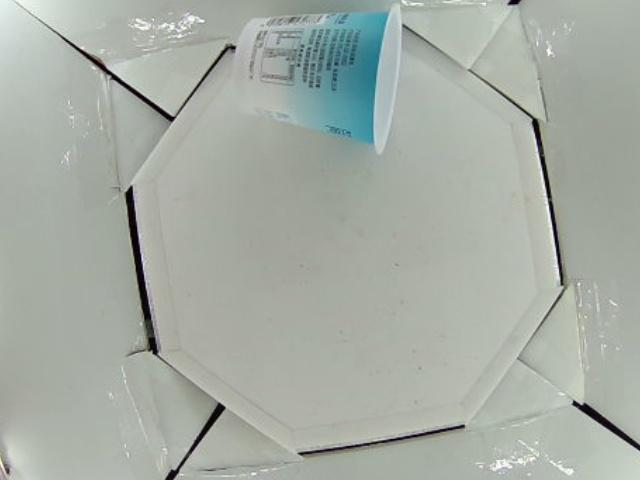Cup: (238, 4, 403, 155)
